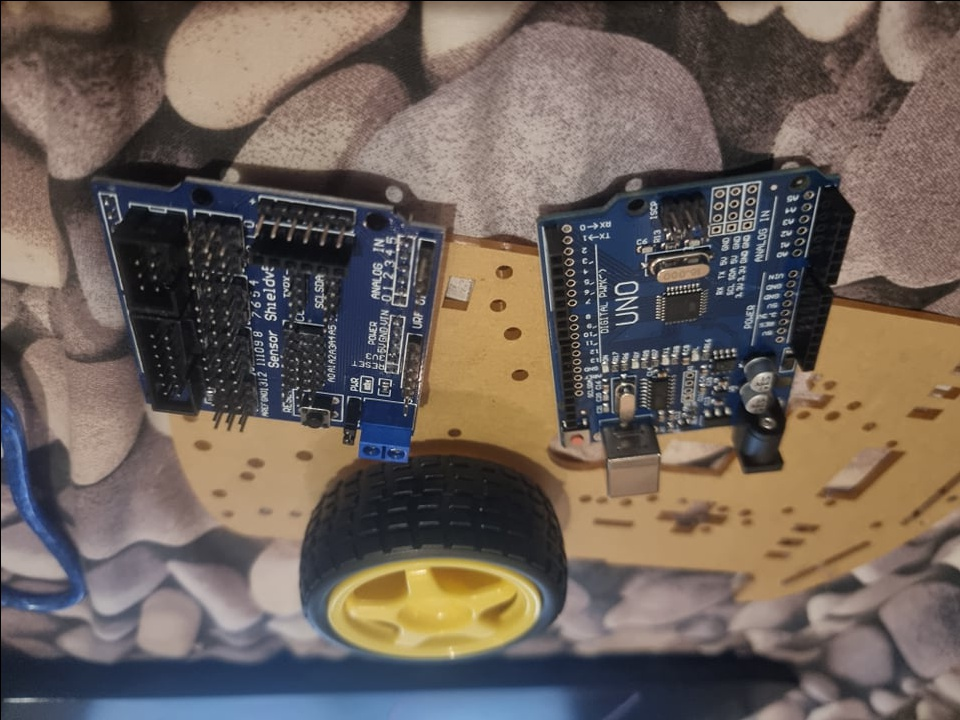5V EXPANSION: (92, 174, 445, 465)
UNO R3: (536, 164, 857, 496)
